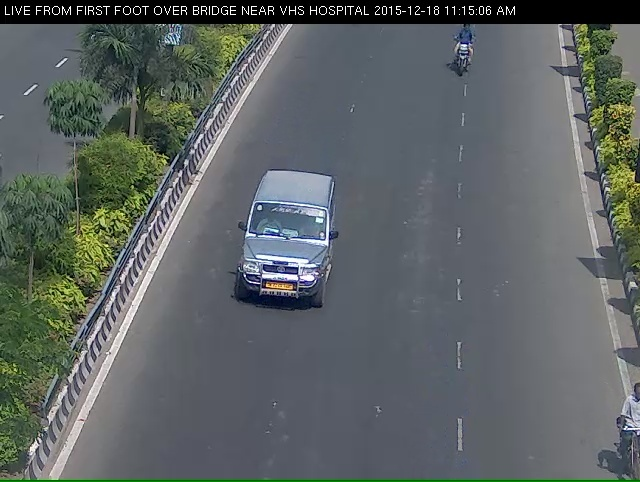Car: (229, 180, 328, 341), (453, 28, 474, 85)
